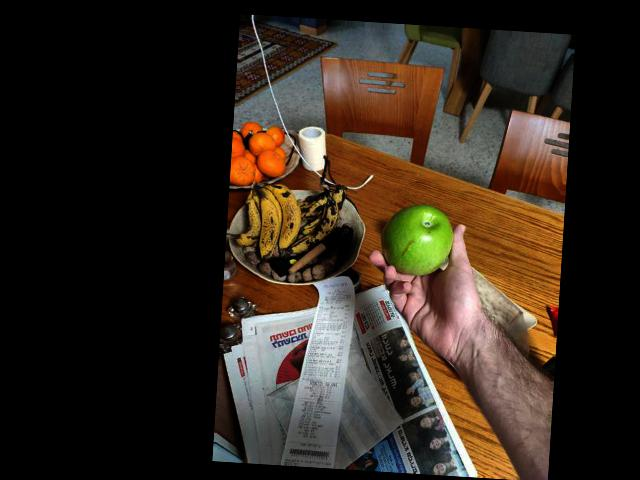apple: (377, 195, 456, 281)
